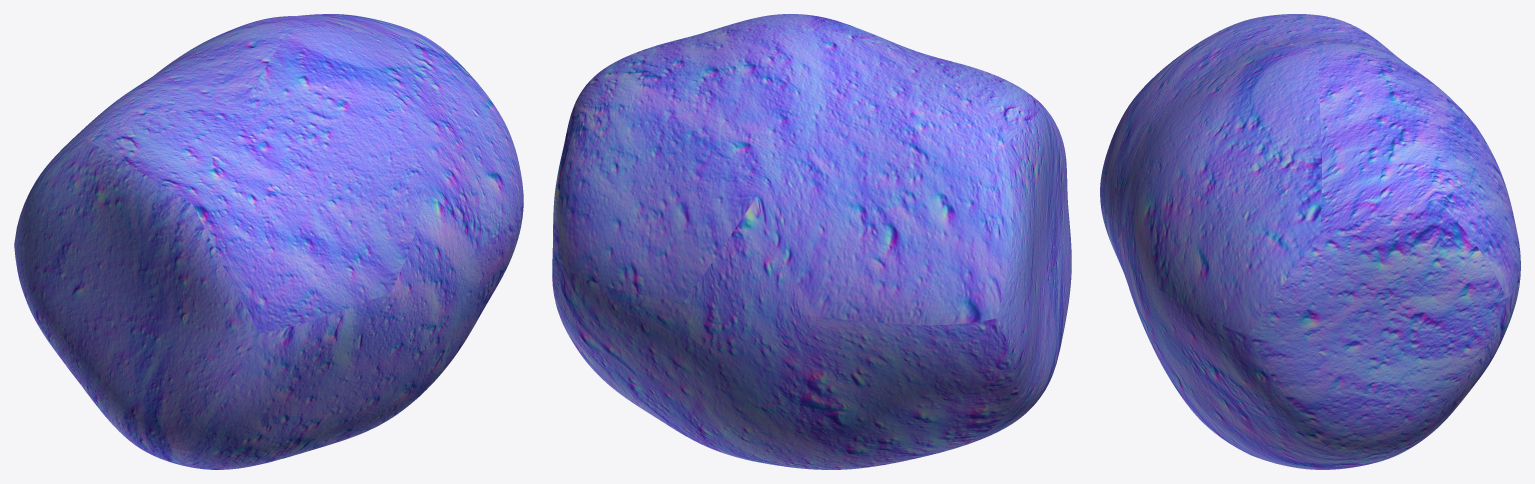
The model's file is smallasteroid15_LOD0.fbx.
The picture shows the model from 3 angles, left to right: view 1: azimuth 30°, elevation 25°; view 2: azimuth 150°, elevation 25°; view 3: azimuth 270°, elevation 25°; orthographic projection. The views are drawn at different scales.
Parts seen in each view (by area): view 1: Icosphere; view 2: Icosphere; view 3: Icosphere.
Boxes of the visible parts, <box> form: Icosphere: <box>14,14,523,469</box>; Icosphere: <box>552,14,1071,469</box>; Icosphere: <box>1100,14,1520,469</box>.
Size of the model in its own units: 240 by 202 by 201.
